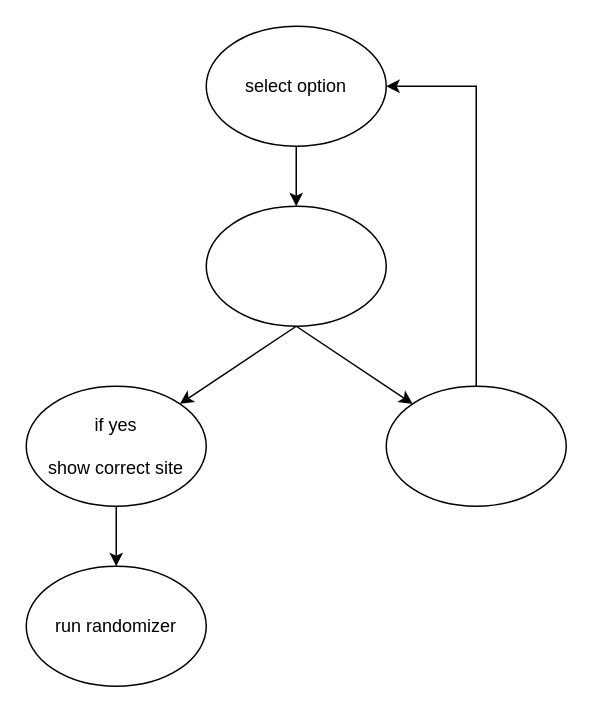
Image size: 593x713. Some labels were removed from this diagram. The shapes that lost their labels are listed below. From the top down, each one's centre as x and y in pixels, then its label:
At point 295,265: "did guess = answer".
At point 475,445: "if no show random wrong site".
